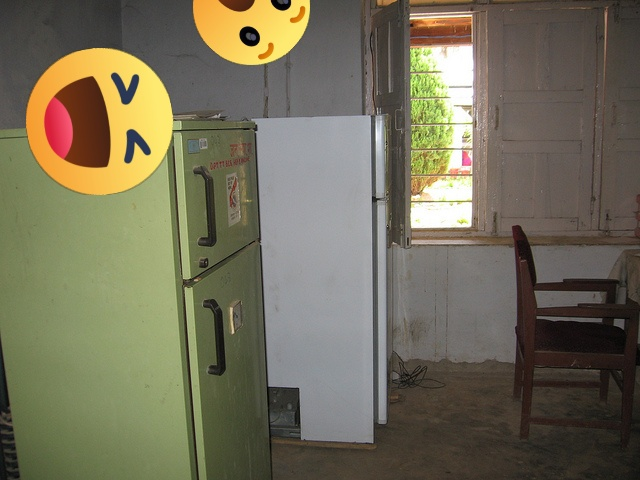haha: (26, 48, 173, 195)
wow: (193, 0, 310, 65)
